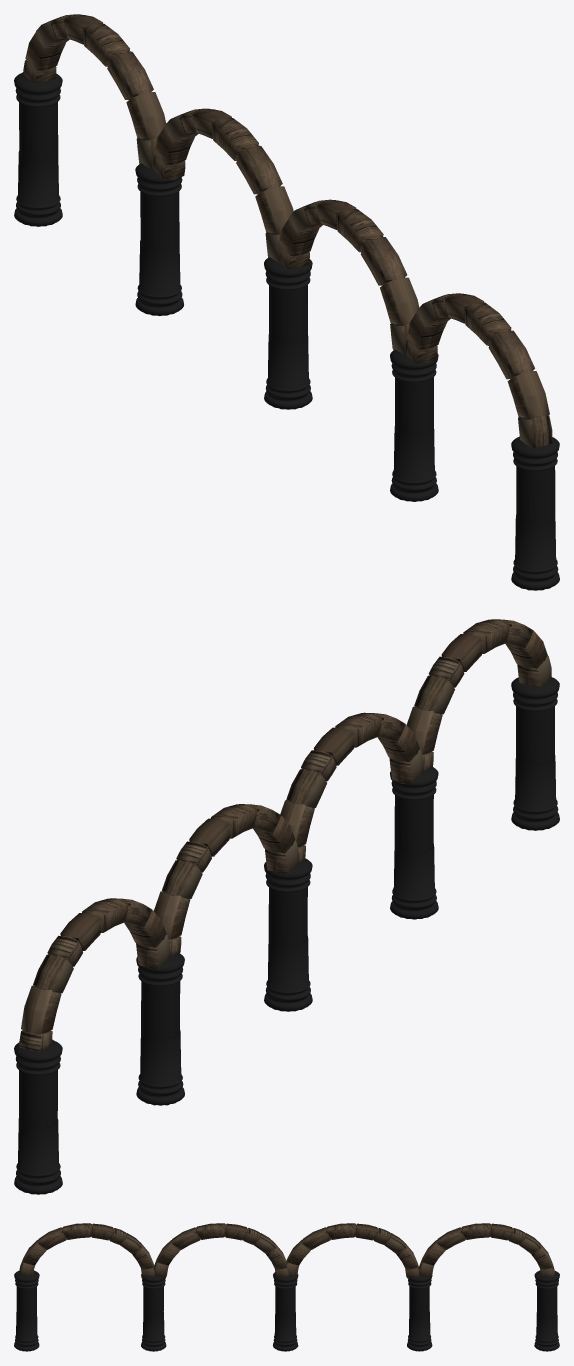
File: Arcos.fbx
The picture shows the model from 3 angles, top to bottom: view 1: azimuth 30°, elevation 25°; view 2: azimuth 150°, elevation 25°; view 3: azimuth 270°, elevation 25°; orthographic projection. The views are drawn at different scales.
Parts seen in each view (by area): view 1: Object151, Object154, Object152, Object153, Cylinder076, Cylinder073, Cylinder075, Cylinder072, Cylinder074; view 2: Object154, Object153, Object151, Object152, Cylinder073, Cylinder076, Cylinder075, Cylinder074, Cylinder072; view 3: Object154, Object151, Object152, Object153, Cylinder073, Cylinder076, Cylinder075, Cylinder072, Cylinder074.
Part boxes in pixels (box(x1,y1,x2,y2)): Object151: box(405, 293, 552, 448); Object154: box(23, 14, 166, 168); Object152: box(279, 199, 419, 354); Object153: box(152, 108, 293, 262); Cylinder076: box(14, 72, 62, 226); Cylinder073: box(511, 436, 559, 590); Cylinder075: box(264, 257, 312, 409); Cylinder072: box(390, 349, 438, 501); Cylinder074: box(135, 163, 183, 315); Object154: box(19, 898, 170, 1052); Object153: box(154, 804, 299, 955); Object151: box(406, 619, 551, 770); Object152: box(280, 712, 423, 862); Cylinder073: box(511, 677, 559, 830); Cylinder076: box(14, 1039, 62, 1194); Cylinder075: box(264, 858, 312, 1011); Cylinder074: box(136, 952, 184, 1105); Cylinder072: box(390, 766, 438, 919); Object154: box(419, 1223, 554, 1277); Object151: box(19, 1223, 154, 1278); Object152: box(154, 1223, 288, 1277); Object153: box(285, 1223, 419, 1278); Cylinder073: box(14, 1270, 39, 1351); Cylinder076: box(534, 1270, 559, 1351); Cylinder075: box(273, 1272, 298, 1351); Cylinder072: box(141, 1274, 166, 1351); Cylinder074: box(407, 1275, 432, 1351).
Bounding box in the file's own units: 75.53 × 397 × 1600.
